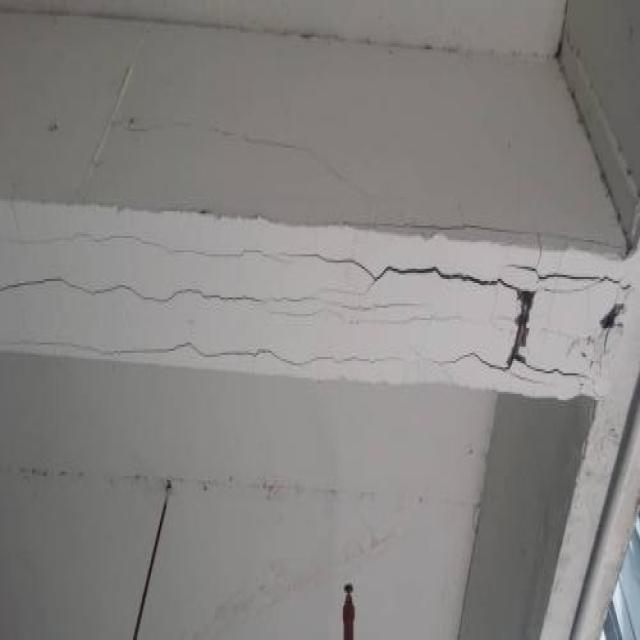crack: (434, 283, 592, 381), (17, 336, 335, 365), (12, 230, 282, 263), (3, 273, 262, 306), (507, 222, 621, 288), (378, 262, 499, 284), (287, 251, 375, 276), (337, 350, 402, 369), (348, 298, 426, 313), (274, 292, 336, 306)
